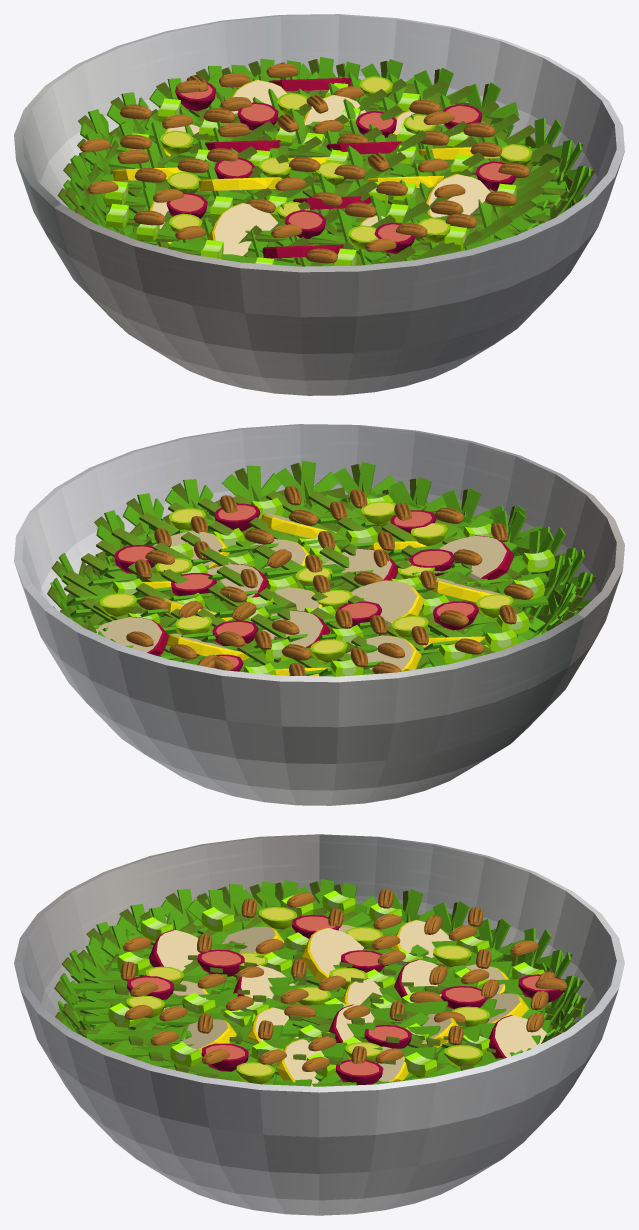
File: bowlEnsalada.fbx
3 renders of one model, top to bottom at view 1: azimuth 30°, elevation 25°; view 2: azimuth 150°, elevation 25°; view 3: azimuth 270°, elevation 25°, orthographic.
Visible parts, largest first — view 1: Bowl, Lechuga Ensalada, NuezPlatoGroup, UvaVerdeCortadaGroup, Manzana(A)CortadaGroup, ApioCortadoGroup; view 2: Bowl, Lechuga Ensalada, Manzana(A)CortadaGroup, NuezPlatoGroup, UvaVerdeCortadaGroup, ApioCortadoGroup; view 3: Bowl, Lechuga Ensalada, Manzana(A)CortadaGroup, NuezPlatoGroup, UvaVerdeCortadaGroup, ApioCortadoGroup.
Part boxes in pixels (box(x1,y1,x2,y2)): Bowl: box(14, 14, 624, 395); Lechuga Ensalada: box(57, 57, 595, 266); NuezPlatoGroup: box(80, 63, 529, 263); UvaVerdeCortadaGroup: box(160, 76, 532, 253); Manzana(A)CortadaGroup: box(113, 78, 499, 258); ApioCortadoGroup: box(105, 83, 516, 265); Bowl: box(14, 424, 624, 805); Lechuga Ensalada: box(47, 460, 596, 676); Manzana(A)CortadaGroup: box(95, 513, 514, 676); NuezPlatoGroup: box(126, 486, 533, 675); UvaVerdeCortadaGroup: box(100, 501, 513, 671); ApioCortadoGroup: box(112, 494, 555, 676); Bowl: box(14, 834, 624, 1215); Lechuga Ensalada: box(54, 879, 586, 1086); Manzana(A)CortadaGroup: box(148, 920, 547, 1086); NuezPlatoGroup: box(120, 889, 567, 1071); UvaVerdeCortadaGroup: box(126, 907, 564, 1085); ApioCortadoGroup: box(108, 890, 543, 1077).
Size of the model in its own units: 42.08 by 14.94 by 42.08.
